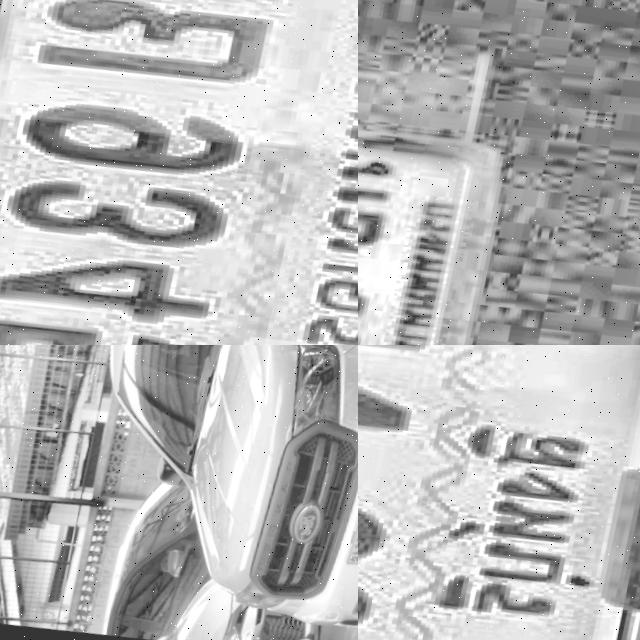license-plate: (0, 0, 358, 345), (358, 345, 640, 640), (358, 111, 509, 345)
